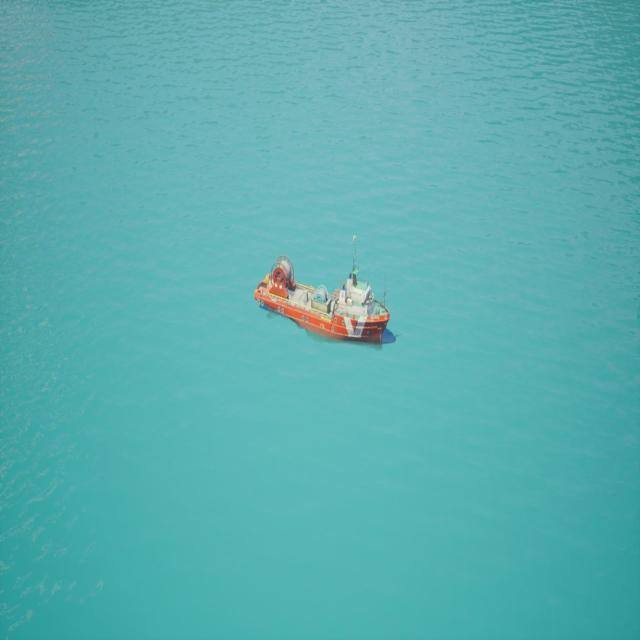tug boat: (249, 205, 412, 409)
